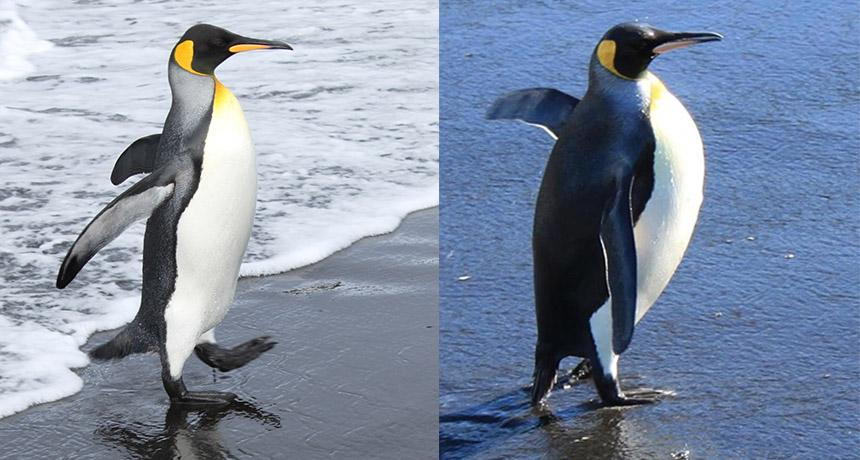king: (492, 10, 757, 428), (71, 17, 306, 438)
